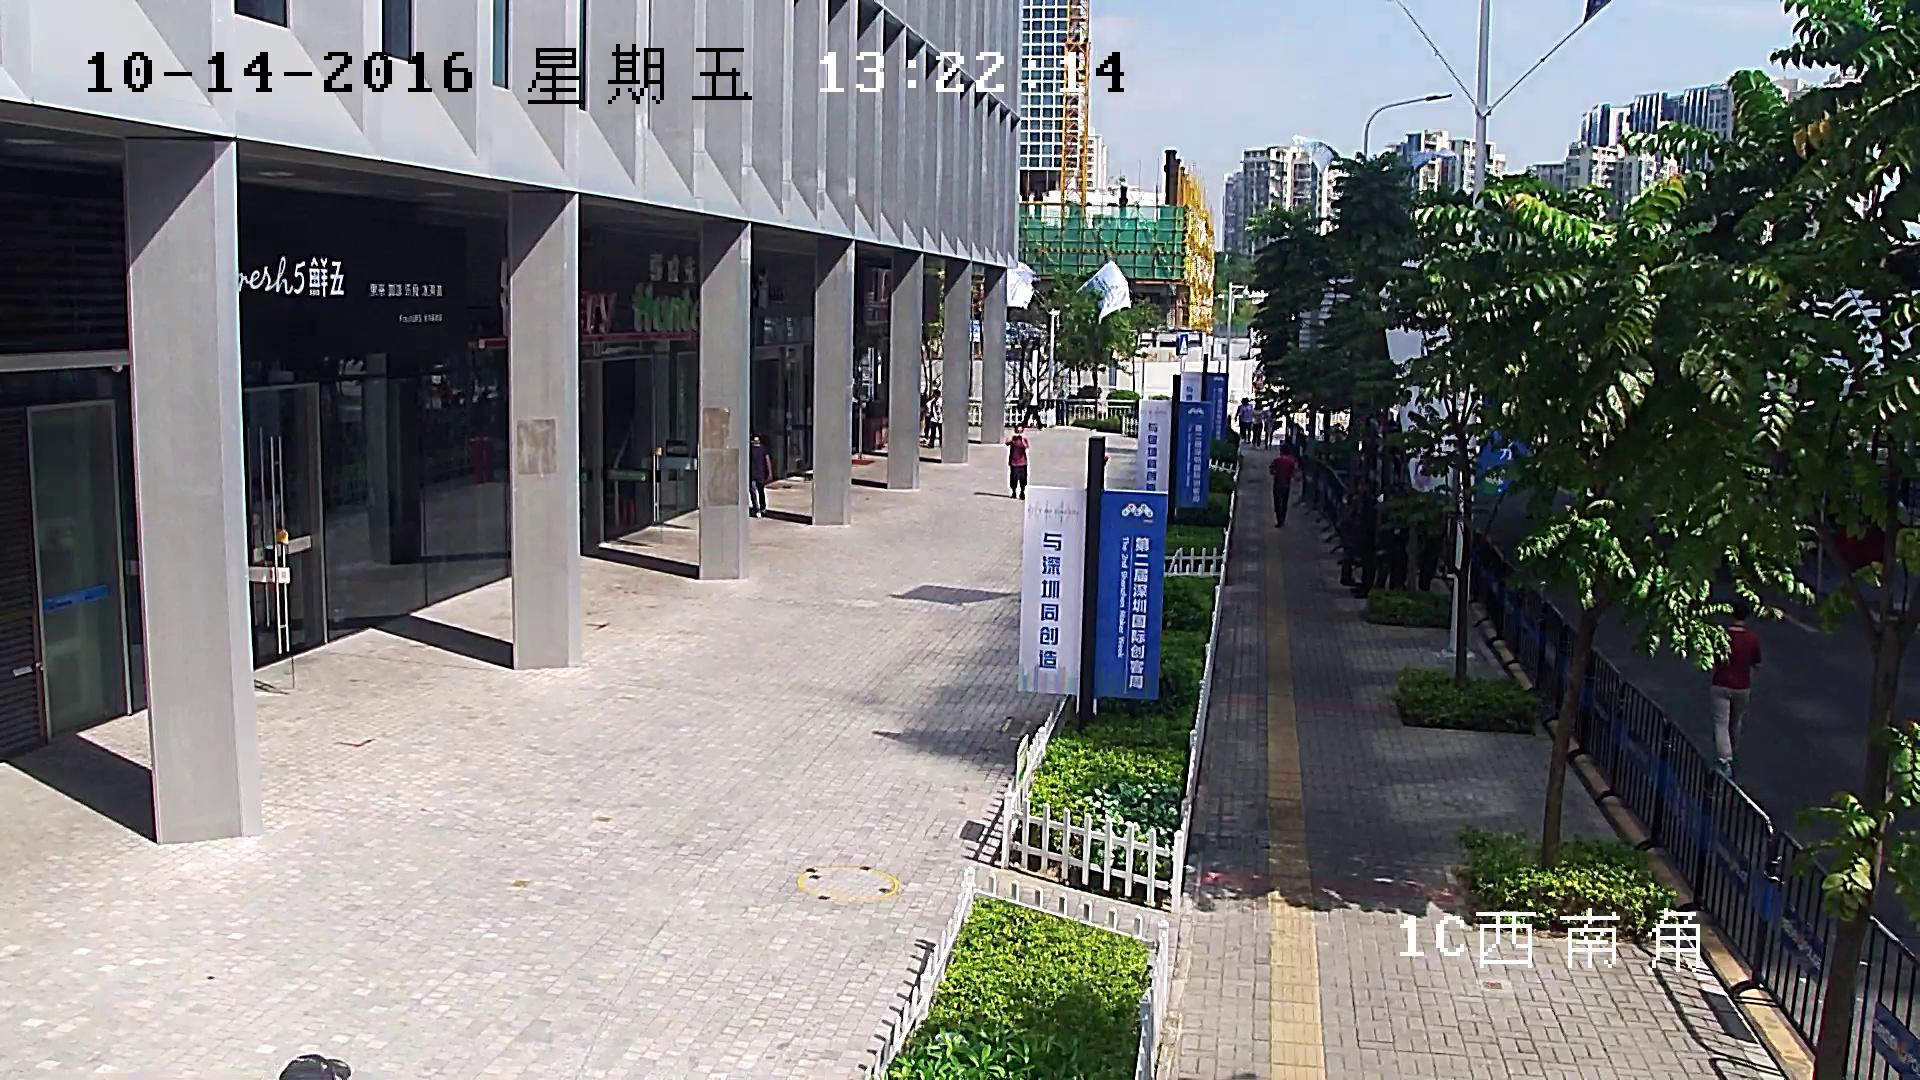person: (1709, 605, 1761, 778), (1269, 446, 1295, 528), (1005, 424, 1028, 499), (749, 436, 771, 514), (1021, 377, 1043, 429), (927, 390, 943, 448), (1238, 398, 1252, 443), (1252, 401, 1263, 447), (1263, 403, 1275, 449)
